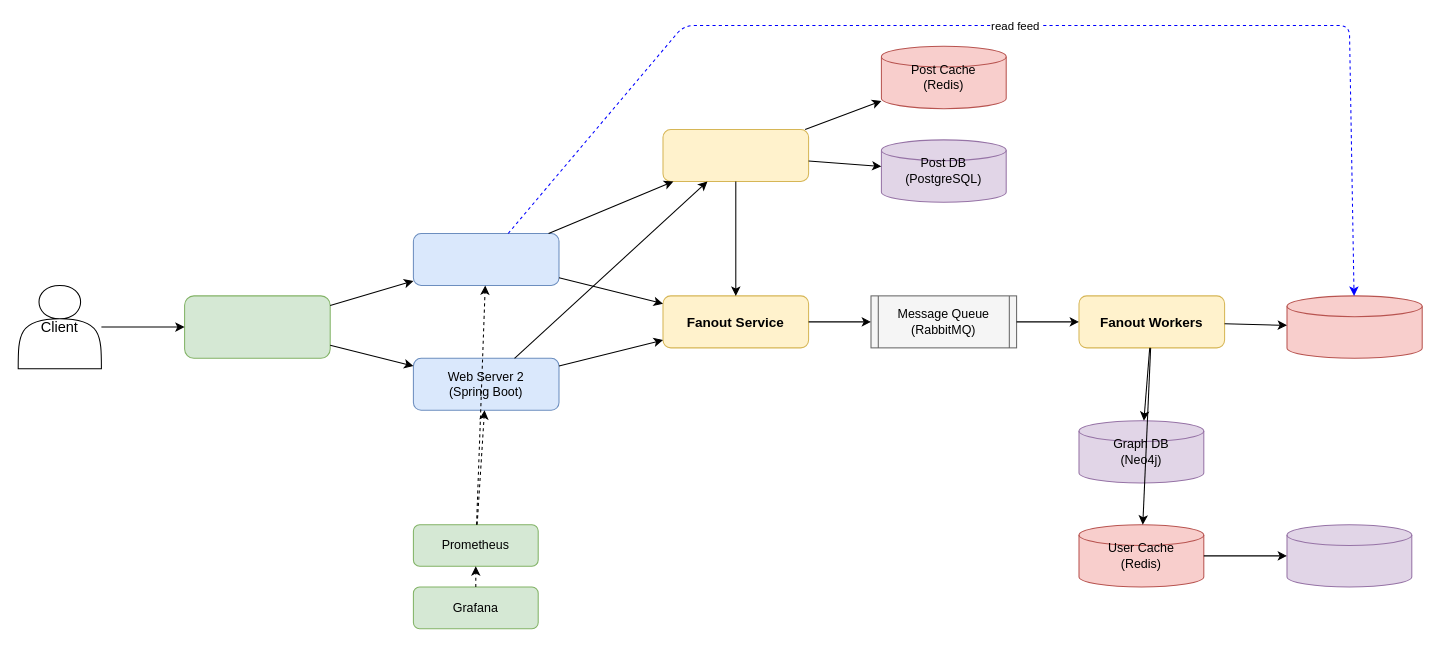
This 1440x647 diagram has some shape labels left out. Here are the shapes that lost their labels. From the top down, the box of each, then its label:
(662, 128, 809, 181): Post Service
(412, 232, 559, 285): Web Server 1 (Spring Boot)
(184, 295, 330, 358): Load Balancer (Nginx)
(1286, 295, 1422, 358): News Feed Cache (Redis)
(1286, 524, 1412, 587): User DB (PostgreSQL)
